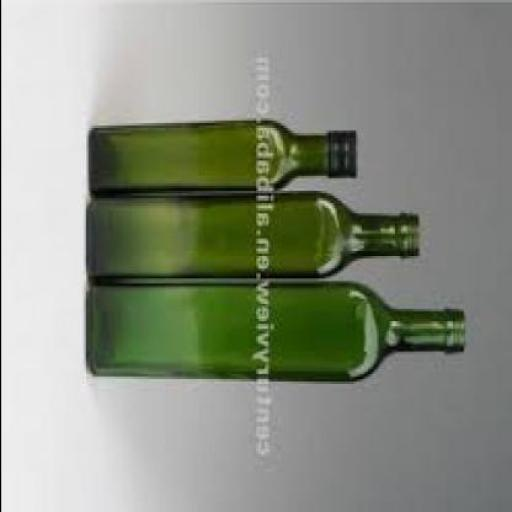glass: (87, 283, 464, 384), (87, 198, 419, 278), (89, 126, 326, 193)
metal: (330, 130, 363, 184)
